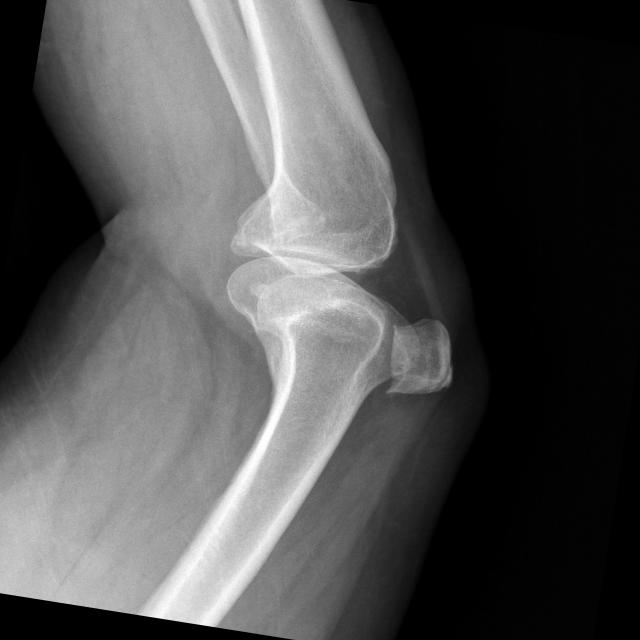Knee: (202, 192, 477, 410)
